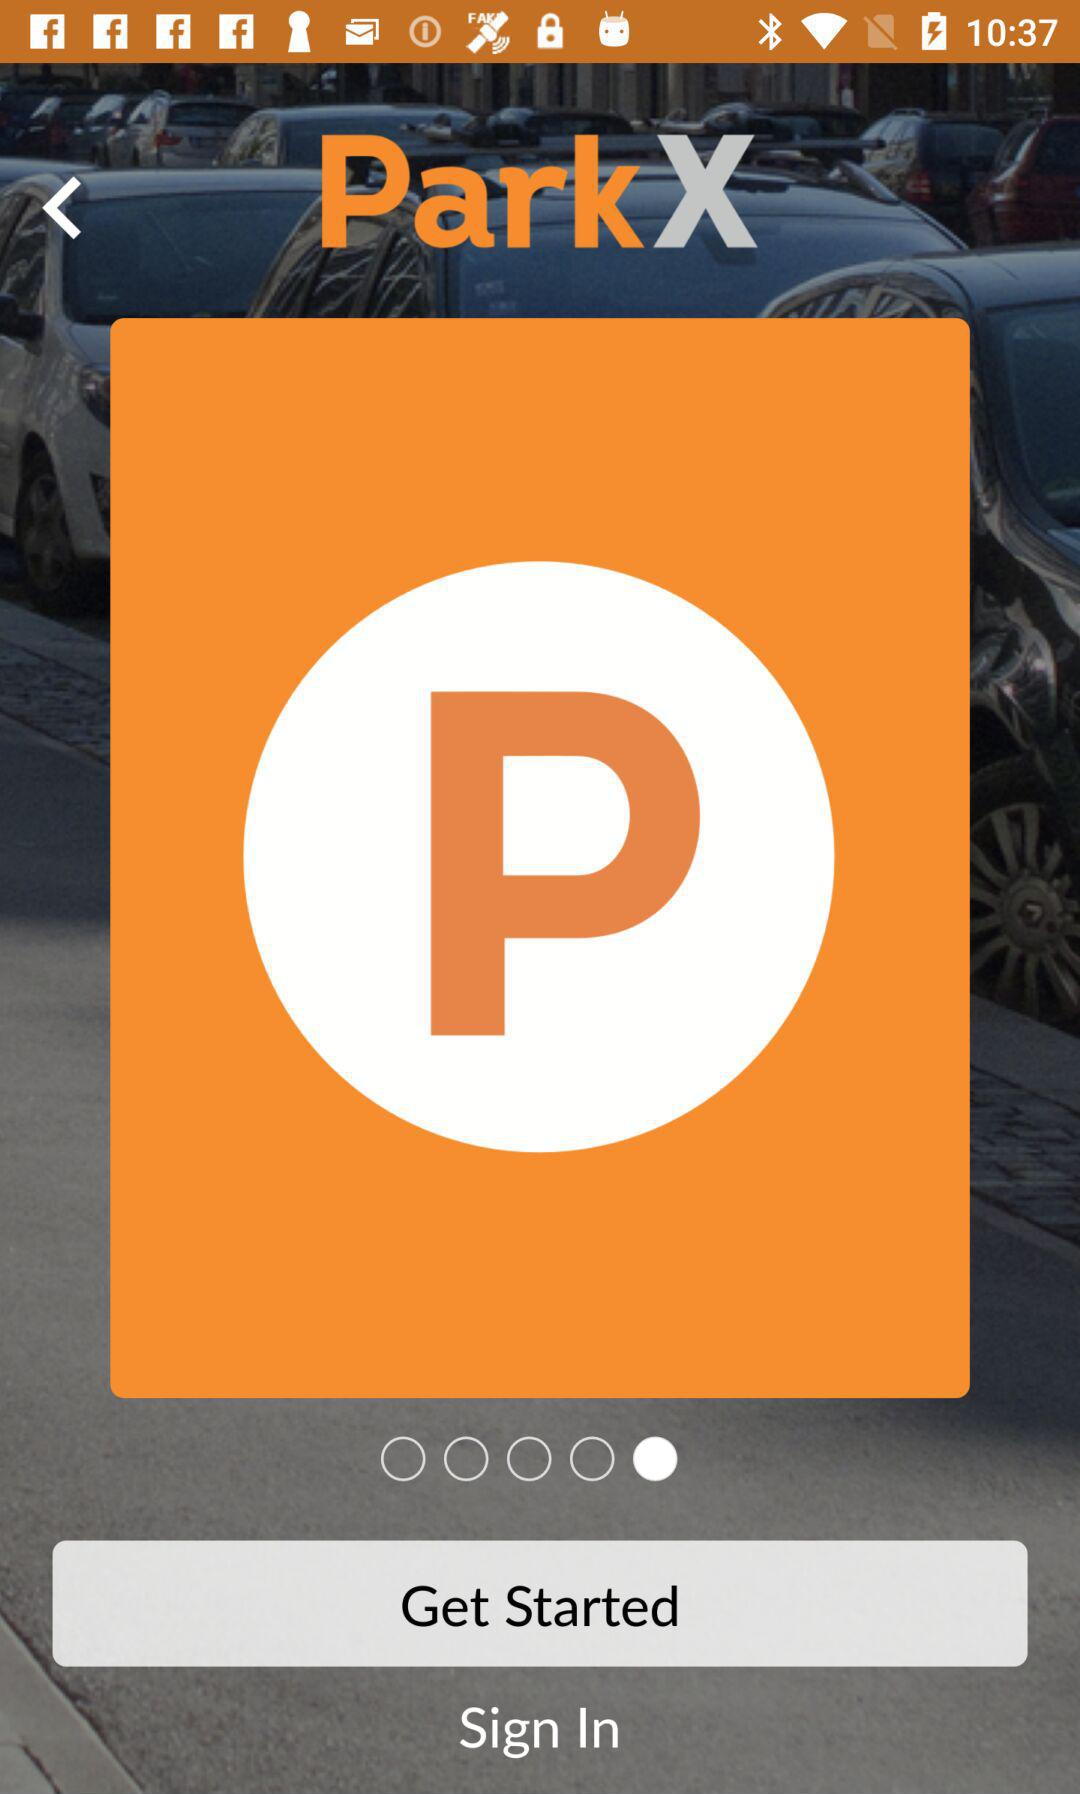BackgroundImage: (1, 64, 1080, 1794)
Icon: (42, 176, 85, 241)
Image: (242, 560, 837, 1152), (322, 135, 760, 252)
PageIndicator: (380, 1434, 680, 1484)
Text: (459, 1706, 620, 1759)
TextButton: (53, 1540, 1029, 1668)
UpperTaskBar: (1, 1, 1080, 64)
